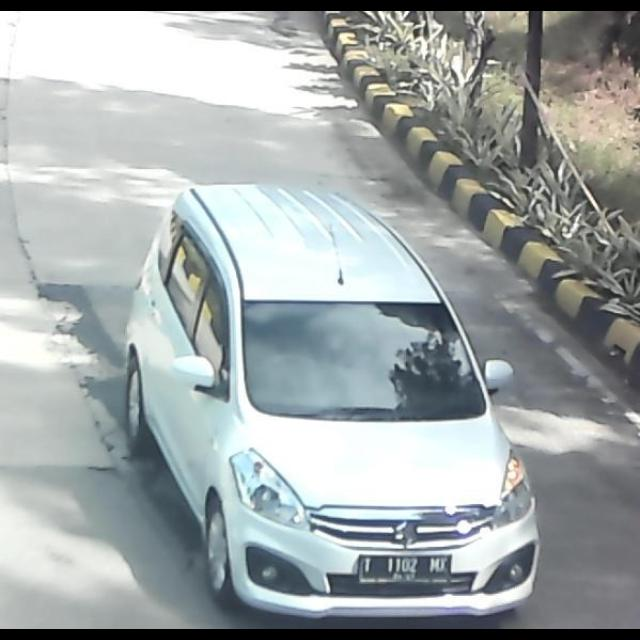plate: (355, 548, 457, 588)
